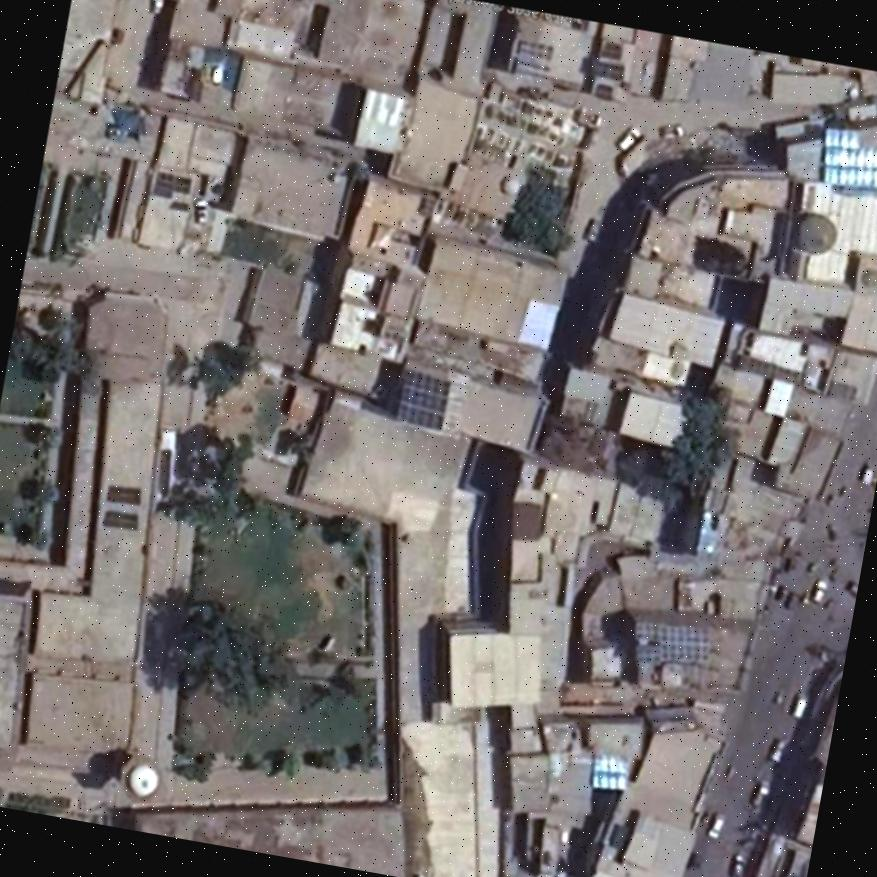Solarpanel: (398, 367, 452, 429), (659, 625, 709, 665), (105, 510, 135, 532), (108, 488, 141, 506), (636, 645, 660, 664), (636, 621, 662, 638), (596, 63, 622, 79), (603, 44, 621, 57)
